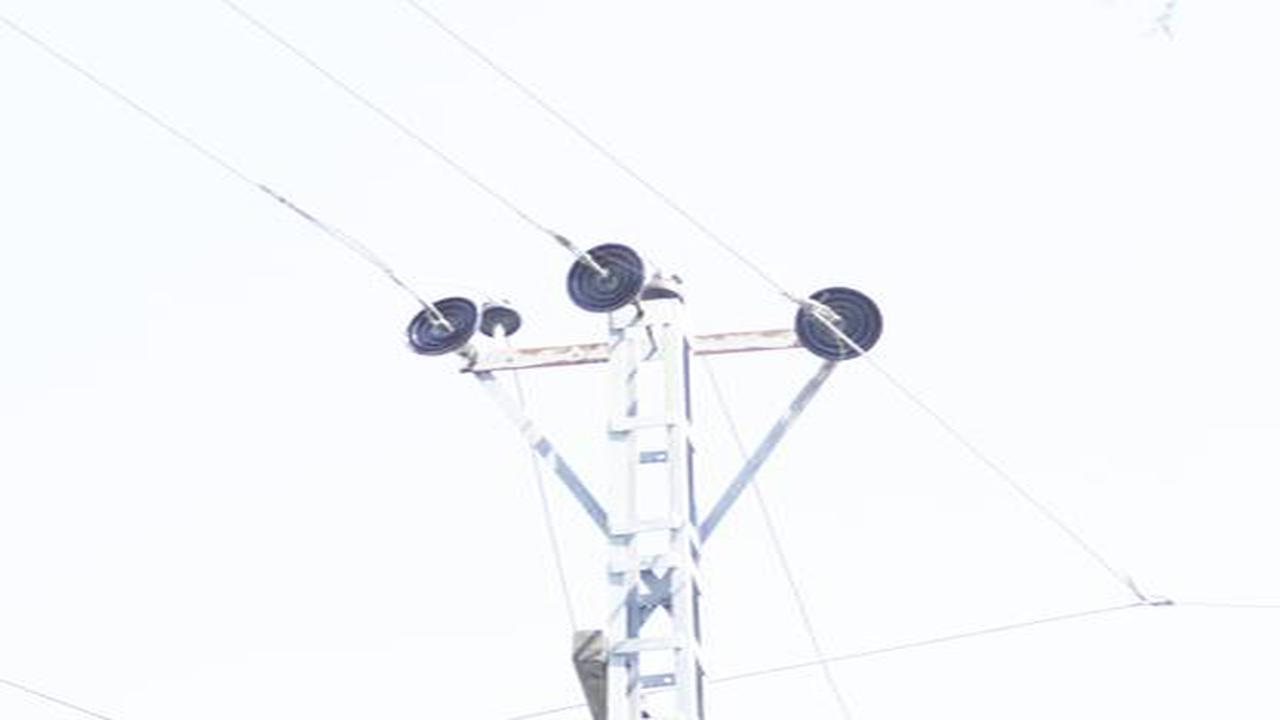insulator_disc: (792, 285, 887, 364), (564, 240, 646, 311), (404, 297, 479, 361)
insulator_pin: (483, 295, 524, 341), (649, 270, 690, 305)
